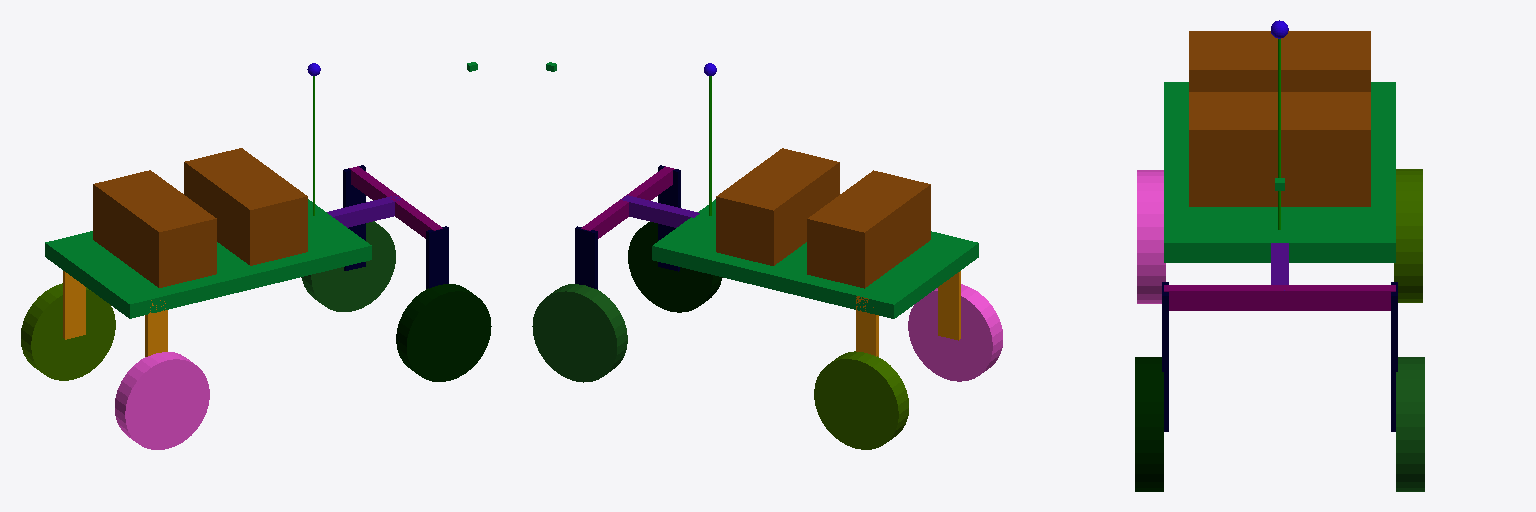
robot.urdf — my_robot:
<robot name="my_robot">
  <material name="black">
  <color rgba="0.0 0.0 0.0 1.0"/>
</material>
<material name="blue">
  <color rgba="0.0 0.0 0.8 1.0"/>
</material>
  <link name="base_footprint"></link>
  <joint name="base_joint" type="fixed">
    <parent link="base_footprint" />
    <child link="base_link" />
    <origin xyz="0 0 0.74" rpy="0 0 3.14159265358979323846159265358979323846" />
  </joint>
<!-- <link name="base_footprint"></link>

<joint name="base_footprint_joint" type="fixed">
    <parent link="fito_world" />
    <child link="base_footprint" />
    <origin xyz="0 0 0" rpy="0 0 0" />
  </joint> -->
<!-- Добавьте этот код в раздел <robot> перед закрывающим тегом </robot> -->


<!-- Добавьте этот код перед закрывающим тегом </robot> -->

<!-- Depth Camera Link and Joint -->

  <link name="base_link">
    <visual>
      <origin xyz="0 0 0" rpy="0 0 0" />
      <geometry>
        <box size="2.11 1.28 0.12" />
      </geometry>
      <material name="base_link-material">
        <color rgba="0.02732089163382382 0.5394794890033748 0.20863687013464577 1" />
      </material>
    </visual>
    <collision>
      <origin xyz="0 0 0" rpy="0 0 0" />
      <geometry>
        <box size="2.11 1.28 0.12" />
      </geometry>
    </collision>
    <inertial>
      <origin xyz="0 0 0" rpy="0 0 0" />
      <mass value="400" />
      <inertia ixx="55.1" ixy="0" ixz="0" iyy="148.9" iyz="0" izz="203" />
    </inertial>

  </link>

  <joint name="front_wheels_base_to_depth_camera" type="revolute">
  <parent link="base_link" />
  <child link="depth_camera_link" />
  <origin xyz="-2.3 0 1" rpy="0 0 0" />
  <axis xyz="0 1 0" />
  <limit lower="0.0" upper="2.09" effort="10" velocity="1"/>
</joint>

<link name="depth_camera_link">
  <visual>
    <origin xyz="0 0 0" rpy="0 0 0"/>
    <geometry>
      <box size="0.07 0.05 0.05"/>
    </geometry>
    <material name="blue">
      <color rgba="0.02732089163382382 0.5394794890033748 0.20863687013464577 1" />
    </material>
  </visual>
  <collision>
    <origin xyz="0 0 0" rpy="0 0 0"/>
    <geometry>
      <box size="0.07 0.05 0.05"/>
    </geometry>
  </collision>
  <inertial>
    <mass value="0.1"/>
    <inertia ixx="0.0001" ixy="0" ixz="0" iyy="0.0001" iyz="0" izz="0.0001"/>
  </inertial>
</link>

<!-- Gazebo Depth Camera Plugin -->
<gazebo reference="depth_camera_link">
  <sensor name="rs_front" type="rgbd_camera">
        <pose>0 0 0 0 1.35 3.14159265358979323846159265358979323846</pose>
        <always_on>1</always_on>
        <update_rate>10</update_rate>
        <camera>
          <horizontal_fov>1.50098</horizontal_fov>
          <!-- <lens>
            <intrinsics>
             
              <fx>343.159</fx>
              <fy>343.159</fy>
             
              <cx>319.5</cx>
              
              <cy>179.5</cy>
              <s>0</s>
            </intrinsics>
          </lens>
          <distortion>
            <k1>0.0</k1>
            <k2>0.0</k2>
            <k3>0.0</k3>
            <p1>0.0</p1>
            <p2>0.0</p2>
            <center>0.5 0.5</center>
          </distortion> -->
          <image>
            <width>1280</width>
            <height>720</height>
            <format>B8G8R8</format>
          </image>
          <clip>
            <near>0.01</near>
            <far>300</far>
          </clip>
          <depth_camera>
            <clip>
              <near>0.1</near>
              <far>10</far>
            </clip>
          </depth_camera>
          <noise>
            <type>gaussian</type>
            <mean>0</mean>
            <stddev>0.007</stddev>
          </noise>
        </camera>
        <gz_frame_id>depth_camera_link</gz_frame_id>
        <topic>rs_front</topic>
        <visualize>true</visualize>
      </sensor>
</gazebo>
  <joint name="base_link_to_wheeling_mech" type="revolute">
    <parent link="base_link" />
    <child link="wheeling_mech" />
    <origin xyz="-1.051211695797214 0 0" rpy="0 0 0" />
    <axis xyz="0 0 1"/>
    <limit effort="3000.0" lower="-0.3" upper="0.3" velocity="1"/>  
    <dynamics damping="0.1" friction="0.5"/>
  </joint>
  <link name="wheeling_mech">
    <visual>
      <origin xyz="-0.3 0 0" rpy="0 0 0" />
      <geometry>
        <box size="0.64 0.1 0.12" />
      </geometry>
      <material name="wheeling_mech-material">
        <color rgba="0.3515325994898463 0.07036009568874305 0.5775804404214573 1" />
      </material>
    </visual>
    <collision>
      <origin xyz="-0.3 0 0" rpy="0 0 0" />
      <geometry>
        <box size="0.64 0.1 0.12" />
      </geometry>
    </collision>

    <inertial>
      <origin xyz="-0.3 0 0" rpy="0 0 0" />
      <mass value="50" />
      <inertia ixx="0.102" ixy="0" ixz="0" iyy="1.763" iyz="0" izz="1.733" />
    </inertial>
  </link>
  <joint name="wheeling_mech_to_front_wheels_base" type="fixed">
    <parent link="wheeling_mech" />
    <child link="front_wheels_base" />
    <origin xyz="-0.5850418798406349 0 0" rpy="0 0 0" />
  </joint>
  <link name="front_wheels_base">
    <visual>
      <origin xyz="0 0 0" rpy="0 0 0" />
      <geometry>
        <box size="0.082 1.28 0.12" />
      </geometry>
      <material name="front_wheels_base-material">
        <color rgba="0.5028864580233624 0.025186859622305935 0.41254261347374327 1" />
      </material>
    </visual>
    <collision>
      <origin xyz="0 0 0" rpy="0 0 0" />
      <geometry>
        <box size="0.082 1.28 0.12" />
      </geometry>
    </collision>
    <inertial>
      <origin xyz="0 0 0" rpy="0 0 0" />
      <mass value="50" />
      <inertia ixx="6.893" ixy="0" ixz="0" iyy="0.102" iyz="0" izz="6.834" />
    </inertial>
  </link>
  <joint name="front_wheels_base_to_front_right_base" type="fixed">
    <parent link="front_wheels_base" />
    <child link="front_right_base" />
    <origin xyz="0 0.63 -0.36" rpy="0 0 0" />
  </joint>
  <link name="front_right_base">
    <visual>
      <origin xyz="0 0 0" rpy="0 0 0" />
      <geometry>
        <box size="0.175 0.04 0.83" />
      </geometry>
      <material name="front_right_base-material">
        <color rgba="0.01680737574872402 0.010960094003125918 0.21952619971859377 1" />
      </material>
    </visual>
    <collision>
      <origin xyz="0 0 0" rpy="0 0 0" />
      <geometry>
        <box size="0.175 0.04 0.83" />
      </geometry>
    </collision>
    <inertial>
      <origin xyz="0 0 0" rpy="0 0 0" />
      <mass value="15" />
      <inertia ixx="0.86" ixy="0" ixz="0" iyy="0.89" iyz="0" izz="0.04" />
    </inertial>
  </link>
  <joint name="front_right_base_to_front_right_wheel" type="continuous">
    <parent link="front_right_base" />
    <child link="front_right_wheel" />
    <origin xyz="0 0.09 -0.41" rpy="1.5707963267948963 0 0" />
    <axis xyz="0 0 1"/>
  </joint>
  <link name="front_right_wheel">
    <visual>
      <origin xyz="0 0 0" rpy="0 0 0" />
      <geometry>
        <cylinder radius="0.37" length="0.16" />
      </geometry>
      <material name="front_right_wheel-material">
        <color rgba="0.013702083043526807 0.16826940017946088 0.009134058699157796 1" />
      </material>
    </visual>
    <collision>
      <origin xyz="0 0 0" rpy="0 0 0" />
      <geometry>
        <cylinder radius="0.37" length="0.16" />
      </geometry>
    </collision>
    <inertial>
      <origin xyz="0 0 0" rpy="0 0 0" />
      <mass value="60" />
      <inertia ixx="2.18" ixy="0" ixz="0" iyy="2.18" iyz="0" izz="4.107" />
    </inertial>
  </link>
  <joint name="front_wheels_base_to_front_left_base" type="fixed">
    <parent link="front_wheels_base" />
    <child link="front_left_base" />
    <origin xyz="0 -0.63 -0.36" rpy="0 0 0" />
  </joint>
  <link name="front_left_base">
    <visual>
      <origin xyz="0 0 0" rpy="0 0 0" />
      <geometry>
        <box size="0.175 0.04 0.83" />
      </geometry>
      <material name="front_left_base-material">
        <color rgba="0.01680737574872402 0.010960094003125918 0.21952619971859377 1" />
      </material>
    </visual>
    <collision>
      <origin xyz="0 0 0" rpy="0 0 0" />
      <geometry>
        <box size="0.175 0.04 0.83" />
      </geometry>
    </collision>
    <inertial>
      <origin xyz="0 0 0" rpy="0 0 0" />
      <mass value="15" />
      <inertia ixx="0.86" ixy="0" ixz="0" iyy="0.89" iyz="0" izz="0.04" />
    </inertial>
  </link>
  <joint name="front_left_base_to_front_left_wheel" type="continuous">
    <parent link="front_left_base" />
    <child link="front_left_wheel" />
    <origin xyz="0 -0.09 -0.41" rpy="1.5707963267948963 0 0" />
    <axis xyz="0 0 1"/>
  </joint>
  <link name="front_left_wheel">
    <visual>
      <origin xyz="0 0 0" rpy="0 0 0" />
      <geometry>
        <cylinder radius="0.37" length="0.16" />
      </geometry>
      <material name="front_left_wheel-material">
        <color rgba="0.11443537381770343 0.35640014413537763 0.11953842797895521 1" />
      </material>
    </visual>
    <collision>
      <origin xyz="0 0 0" rpy="0 0 0" />
      <geometry>
        <cylinder radius="0.37" length="0.16" />
      </geometry>
    </collision>
    <inertial>
      <origin xyz="0 0 0" rpy="0 0 0" />
      <mass value="60" />
      <inertia ixx="2.18" ixy="0" ixz="0" iyy="2.18" iyz="0" izz="4.107" />
    </inertial>
  </link>
  <joint name="base_link_to_back_left_base" type="fixed">
    <parent link="base_link" />
    <child link="back_left_base" />
    <origin xyz="0.8122615873599781 -0.62 -0.3556037303067785" rpy="0 0 0" />
  </joint>
  <link name="back_left_base">
    <visual>
      <origin xyz="0 0 0" rpy="0 0 0" />
      <geometry>
        <box size="0.175 0.04 0.83" />
      </geometry>
      <material name="back_left_base-material">
        <color rgba="0.8631572134510892 0.5457244613615395 0.04817182422013895 1" />
      </material>
    </visual>
    <collision>
      <origin xyz="0 0 0" rpy="0 0 0" />
      <geometry>
        <box size="0.175 0.04 0.83" />
      </geometry>
    </collision>
    <inertial>
      <origin xyz="0 0 0" rpy="0 0 0" />
      <mass value="15" />
      <inertia ixx="0.86" ixy="0" ixz="0" iyy="0.89" iyz="0" izz="0.04" />
    </inertial>
  </link>
  <joint name="back_left_base_to_back_left_wheel" type="continuous">
    <parent link="back_left_base" />
    <child link="back_left_wheel" />
    <origin xyz="0 -0.09 -0.41" rpy="1.5707963267948963 0 0" />
    <axis xyz="0 0 1"/>
  </joint>
  <link name="back_left_wheel">
    <visual>
      <origin xyz="0 0 0" rpy="0 0 0" />
      <geometry>
        <cylinder radius="0.37" length="0.16" />
      </geometry>
      <material name="back_left_wheel-material">
        <color rgba="0.2663556047920505 0.4396571738310091 0.006048833020386069 1" />
      </material>
    </visual>
    <collision>
      <origin xyz="0 0 0" rpy="0 0 0" />
      <geometry>
        <cylinder radius="0.37" length="0.16" />
      </geometry>
    </collision>
    <inertial>
      <origin xyz="0 0 0" rpy="0 0 0" />
      <mass value="60" />
      <inertia ixx="2.18" ixy="0" ixz="0" iyy="2.18" iyz="0" izz="4.107" />
    </inertial>
  </link>
  <joint name="base_link_to_back_right_base" type="fixed">
    <parent link="base_link" />
    <child link="back_right_base" />
    <origin xyz="0.8122615873599781 0.62 -0.36" rpy="0 0 0" />
  </joint>
  <link name="back_right_base">
    <visual>
      <origin xyz="0 0 0" rpy="0 0 0" />
      <geometry>
        <box size="0.175 0.04 0.83" />
      </geometry>
      <material name="back_right_base-material">
        <color rgba="0.8631572134510892 0.5457244613615395 0.04817182422013895 1" />
      </material>
    </visual>
    <collision>
      <origin xyz="0 0 0" rpy="0 0 0" />
      <geometry>
        <box size="0.175 0.04 0.83" />
      </geometry>
    </collision>
    <inertial>
      <origin xyz="0 0 0" rpy="0 0 0" />
      <mass value="15" />
      <inertia ixx="0.86" ixy="0" ixz="0" iyy="0.89" iyz="0" izz="0.04" />
    </inertial>
  </link>
  <joint name="back_right_base_to_back_right_wheel" type="continuous">
    <parent link="back_right_base" />
    <child link="back_right_wheel" />
    <origin xyz="0 0.09 -0.41" rpy="1.5707963267948963 0 0" />
    <axis xyz="0 0 1"/>
  </joint>
  <link name="back_right_wheel">
    <visual>
      <origin xyz="0 0 0" rpy="0 0 0" />
      <geometry>
        <cylinder radius="0.37" length="0.16" />
      </geometry>
      <material name="back_right_wheel-material">
        <color rgba="0.9301108583738498 0.3515325994898463 0.8307698767709715 1" />
      </material>
    </visual>
    <collision>
      <origin xyz="0 0 0" rpy="0 0 0" />
      <geometry>
        <cylinder radius="0.37" length="0.16" />
      </geometry>
    </collision>
    <inertial>
      <origin xyz="0 0 0" rpy="0 0 0" />
      <mass value="60" />
      <inertia ixx="2.18" ixy="0" ixz="0" iyy="2.18" iyz="0" izz="4.107" />
    </inertial>
  </link>
  <joint name="base_link_to_back_load" type="fixed">
    <parent link="base_link" />
    <child link="back_load" />
    <origin xyz="0.46646768743264955 0 0.2753277941857757" rpy="0 0 0" />
  </joint>
  <link name="back_load">
    <visual>
      <origin xyz="0 0 0" rpy="0 0 0" />
      <geometry>
        <box size="0.5 1 0.5" />
      </geometry>
      <material name="back_load-material">
        <color rgba="0.5457244613615395 0.3005437944049895 0.05612849004241121 1" />
      </material>
    </visual>
    <collision>
      <origin xyz="0 0 0" rpy="0 0 0" />
      <geometry>
        <box size="0.5 1 0.5" />
      </geometry>
    </collision>
    <inertial>
      <origin xyz="0 0 0" rpy="0 0 0" />
      <mass value="50" />
      <inertia ixx="5.208" ixy="0" ixz="0" iyy="2.083" iyz="0" izz="5.208" />
    </inertial>
  </link>
  <joint name="base_link_to_front_load" type="fixed">
    <parent link="base_link" />
    <child link="front_load" />
    <origin xyz="-0.32806438331095766 0 0.2753277941857757" rpy="0 0 0" />
  </joint>
  <link name="front_load">
    <visual>
      <origin xyz="0 0 0" rpy="0 0 0" />
      <geometry>
        <box size="0.5 1 0.5" />
      </geometry>
      <material name="front_load-material">
        <color rgba="0.5457244613615395 0.3005437944049895 0.05612849004241121 1" />
      </material>
    </visual>
    <collision>
      <origin xyz="0 0 0" rpy="0 0 0" />
      <geometry>
        <box size="0.5 1 0.5" />
      </geometry>
    </collision>
    <inertial>
      <origin xyz="0 0 0" rpy="0 0 0" />
      <mass value="60" />
      <inertia ixx="6.25" ixy="0" ixz="0" iyy="2.5" iyz="0" izz="6.25" />
    </inertial>
  </link>
  <joint name="base_link_to_lidar_base" type="fixed">
    <parent link="base_link" />
    <child link="lidar_base" />
    <origin xyz="-0.92 0.002145114131801129 0.6811955493557079" rpy="0 0 0" />
  </joint>
  <link name="lidar_base">
    <visual>
      <origin xyz="0 0 0" rpy="0 0 0" />
      <geometry>
        <cylinder radius="0.01" length="1.2" />
      </geometry>
      <material name="lidar_base-material">
        <color rgba="0.06662593863608139 0.5906188409113381 0.008023192982520563 1" />
      </material>
    </visual>
    <collision>
      <origin xyz="0 0 0" rpy="0 0 0" />
      <geometry>
        <cylinder radius="0.01" length="1.2" />
      </geometry>
    </collision>
    <inertial>
      <origin xyz="0 0 0" rpy="0 0 0" />
      <mass value="1" />
      <inertia ixx="0.3333333333333333" ixy="0" ixz="0" iyy="0.5" iyz="0" izz="0.3333333333333333" />
    </inertial>
  </link>
  <joint name="lidar_base_to_lidar" type="fixed">
    <parent link="lidar_base" />
    <child link="lidar" />
    <origin xyz="0 0 0.6172694527420378" rpy="0 0 0" />
  </joint>
  <link name="lidar">
    <visual>
      <origin xyz="0 0 0" rpy="0 0 0" />
      <geometry>
        <sphere radius="0.05" />
      </geometry>
      <material name="lidar-material">
        <color rgba="0.1912016827303171 0.03954623527052923 0.85499260812105 1" />
      </material>
    </visual>
    <collision>
      <origin xyz="0 0 0" rpy="0 0 0" />
      <geometry>
        <sphere radius="0.05" />
      </geometry>
    </collision>
    <inertial>
      <origin xyz="0 0 0" rpy="0 0 0" />
      <mass value="1" />
      <inertia ixx="0.4" ixy="0" ixz="0" iyy="0.4" iyz="0" izz="0.4" />
    </inertial>
</link>
<link name="imu_link">
 <visual>
    <origin xyz="0 0 0" rpy="0 0 0"/>
    <geometry>
      <box size="0.07 0.05 0.05"/>
    </geometry>
    <material name="blue">
      <color rgba="0.02732089163382382 0.5394794890033748 0.20863687013464577 1" />
    </material>
  </visual>
  <collision>
    <origin xyz="0 0 0" rpy="0 0 0"/>
    <geometry>
      <box size="0.07 0.05 0.05"/>
    </geometry>
  </collision>
  <inertial>
    <mass value="0.1"/>
    <inertia ixx="0.0001" ixy="0" ixz="0" iyy="0.0001" iyz="0" izz="0.0001"/>
  </inertial>
</link>
<joint name="imu_joint" type="fixed">
  <parent link="base_link"/>
  <child link="imu_link"/>
  <origin xyz="0.1 0 0.1" rpy="0 0 0"/> <!-- Укажите реальное положение IMU -->
</joint>
      
      <gazebo reference="imu_link">
    <sensor name="imu" type="imu">
      <gz_frame_id>imu_link</gz_frame_id>
      <update_rate>10</update_rate>
    <always_on>1</always_on>
    <update_rate>1</update_rate>
    <visualize>true</visualize>
    <topic>imu</topic>
</sensor>

  </gazebo>
  <gazebo reference="lidar">
    <sensor name="gpu_lidar" type="gpu_lidar">
      <update_rate>10</update_rate>
      <topic>scan</topic>
      <gz_frame_id>lidar</gz_frame_id>
      <lidar>
        <scan>
          <horizontal>
            <samples>720</samples>
            <!--(max_angle-min_angle)/samples * resolution -->
            <resolution>1</resolution>
            <min_angle>-3.14159265358979323846156</min_angle>
            <max_angle>3.14159265358979323846156</max_angle>
          </horizontal>
          <!-- Dirty hack for fake lidar detections with ogre 1 rendering in VM -->
          <!-- <vertical>
              <samples>3</samples>
              <min_angle>-0.001</min_angle>
              <max_angle>0.001</max_angle>
          </vertical> -->
        </scan>
        <range>
          <min>0.05</min>
          <max>10.0</max>
          <resolution>0.01</resolution>
        </range>
        <noise>
            <type>gaussian</type>
            <mean>0.0</mean>
            <stddev>0.01</stddev>
        </noise>
        <frame_id>lidar</frame_id>
      </lidar>
      <always_on>1</always_on>
      <visualize>true</visualize>
    </sensor>
    
  </gazebo>
   <link name="gps_link">
      <!-- Some weird bug occurs if this joint gets the default inertia -->
    <visual>
    <origin xyz="0 0 0" rpy="0 0 0"/>
    <geometry>
      <box size="0.07 0.05 0.05"/>
    </geometry>
    <material name="black">
      <color rgba="0.02732089163382382 0.5394794890033748 0.20863687013464577 1" />
    </material>
  </visual>
  <collision>
    <origin xyz="0 0 0" rpy="0 0 0"/>
    <geometry>
      <box size="0.07 0.05 0.05"/>
    </geometry>
  </collision>
  <inertial>
    <mass value="0.1"/>
    <inertia ixx="0.0001" ixy="0" ixz="0" iyy="0.0001" iyz="0" izz="0.0001"/>
  </inertial>
      </link>
      <joint name="gps_joint" type="fixed">
        <parent link = 'base_link'></parent>
        <child link = 'gps_link'></child>
        <origin xyz="0 0 0.07" rpy="0 0 0" />
    
      </joint>
<gazebo reference="gps_link">
   <sensor name="navsat" type="navsat">
    <always_on>1</always_on>
    <update_rate>10</update_rate>
    <topic>navsat</topic>
    <gz_frame_id>gps_link</gz_frame_id>
  </sensor>
</gazebo>

    <ros2_control name="GazeboSystem" type="system">
      <hardware>
        <plugin>gz_ros2_control/GazeboSimSystem</plugin>
      </hardware>


      <joint name="back_right_base_to_back_right_wheel">
        <command_interface name="velocity">
          <param name="min">-10</param>
          <param name="max">10</param>
        </command_interface>
        <state_interface name="position"/>
        <state_interface name="velocity"/>
      </joint>
     
      <joint name="back_left_base_to_back_left_wheel">
        <command_interface name="velocity">
          <param name="min">-10</param>
          <param name="max">10</param>
        </command_interface>
        <state_interface name="position"/>
        <state_interface name="velocity"/>
      </joint>

      <joint name="front_right_base_to_front_right_wheel">
        <command_interface name="velocity">
          <param name="min">-10</param>
          <param name="max">10</param>
        </command_interface>
        <state_interface name="position"/>
        <state_interface name="velocity"/>
      </joint>
     
      <joint name="front_left_base_to_front_left_wheel">
        <command_interface name="velocity">
          <param name="min">-10</param>
          <param name="max">10</param>
        </command_interface>
        <state_interface name="position"/>
        <state_interface name="velocity"/>
      </joint>
      
      

      <!-- Steering mechanisms (position control) -->
      <joint name="base_link_to_wheeling_mech">
        <command_interface name="position">
          <param name="min">-0.4</param>
          <param name="max">0.4</param>
        </command_interface>
        <state_interface name="position"/>
        <state_interface name="velocity"/>
      </joint>

      <!-- Camera tilt (pitch control) -->
      <joint name="front_wheels_base_to_depth_camera">
        <command_interface name="position">
          <param name="min">0.0</param>
          <param name="max">2.09</param>
        </command_interface>
        <state_interface name="position"/>
      </joint>

    </ros2_control>
  

 
    <gazebo>
      <plugin name="gz_ros2_control::GazeboSimROS2ControlPlugin" filename="libgz_ros2_control-system.so">
        <parameters>/ros2_ws/install/my_robot/share/my_robot/config/new_controllers.yaml</parameters>
      </plugin>
   
    </gazebo>
    
 
    <gazebo reference="base_link">
      <material>Gazebo/Grey</material>
    </gazebo>
 
</robot>

--- Facts derived from the render (not from the file) ---
3 views of the same robot in one strip: view 1: azimuth 30°, elevation 25°; view 2: azimuth 150°, elevation 25°; view 3: azimuth 270°, elevation 25° (orthographic).
Robot: my_robot — 19 links, 18 joints (2 revolute, 4 continuous, 12 fixed); root link base_footprint; default pose: all joints at 0.
Visible links, largest first — view 1: base_link, back_load, front_load, front_right_wheel, back_right_wheel, back_left_wheel, front_left_wheel, front_wheels_base, back_left_base, front_right_base, wheeling_mech, back_right_base (+1 smaller); view 2: base_link, back_load, front_load, back_left_wheel, front_left_wheel, back_right_wheel, front_right_wheel, front_wheels_base, back_right_base, front_left_base, wheeling_mech, back_left_base (+1 smaller); view 3: front_load, base_link, back_load, front_wheels_base, front_right_wheel, front_left_wheel, back_left_wheel, back_right_wheel, front_right_base, front_left_base, wheeling_mech, lidar_base.
Link boxes in pixels (x1,y1,x2,y2): base_link: (45,199,371,318); back_load: (93,170,216,287); front_load: (184,148,307,265); front_right_wheel: (396,284,491,381); back_right_wheel: (115,352,209,449); back_left_wheel: (21,283,115,380); front_left_wheel: (301,221,395,311); front_wheels_base: (349,166,442,238); back_left_base: (63,271,85,339); front_right_base: (426,226,448,288); wheeling_mech: (327,196,400,227); back_right_base: (145,300,167,356); base_link: (652,199,978,318); back_load: (807,170,930,288); front_load: (716,148,839,265); back_left_wheel: (814,351,908,449); front_left_wheel: (532,284,627,382); back_right_wheel: (908,284,1002,381); front_right_wheel: (628,222,722,312); front_wheels_base: (581,166,674,238); back_right_base: (938,271,960,340); front_left_base: (575,226,597,289); wheeling_mech: (621,195,699,227); back_left_base: (856,296,878,356); front_load: (1189,92,1370,206); base_link: (1164,82,1395,262); back_load: (1189,31,1370,91); front_wheels_base: (1164,285,1395,310); front_right_wheel: (1135,357,1163,491); front_left_wheel: (1396,357,1424,491); back_left_wheel: (1394,169,1422,302); back_right_wheel: (1137,170,1165,303); front_right_base: (1162,282,1168,431); front_left_base: (1391,282,1397,431); wheeling_mech: (1271,243,1288,290); lidar_base: (1278,39,1280,229).
Bounding box of the posed robot: 3.52 × 1.6 × 2.49 m (x, y, z).
Geometry: primitives only (box / cylinder / sphere), no mesh files.
